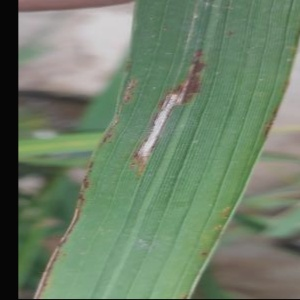Brown_Spot: (122, 55, 212, 187)
